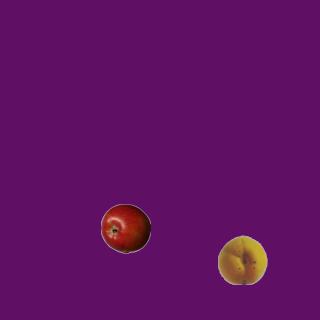Apple Braeburn: (100, 203, 150, 253)
Peach 2: (217, 234, 267, 284)
